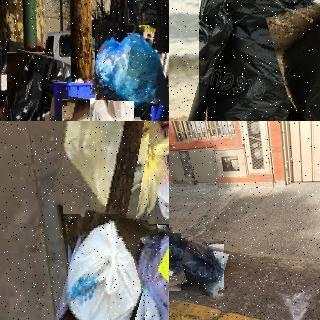Garbage: (183, 0, 320, 121), (60, 212, 161, 320), (57, 121, 169, 217), (92, 22, 169, 102), (280, 0, 320, 121), (2, 50, 49, 121), (169, 236, 226, 294), (148, 121, 169, 224), (59, 98, 105, 121), (90, 97, 133, 121), (169, 230, 184, 294)
